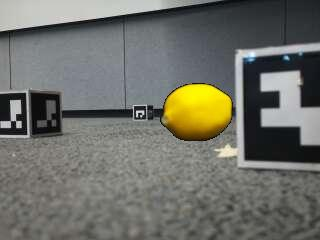lemon: (161, 84, 231, 140)
